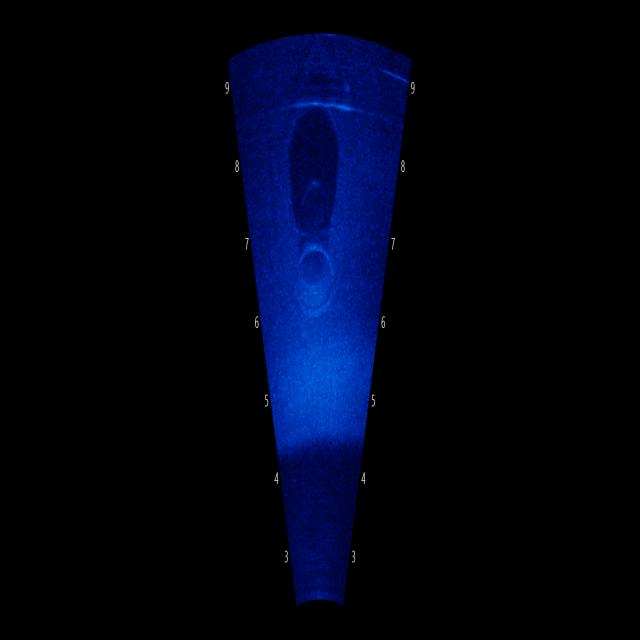circle: (284, 187, 346, 363)
triangle: (272, 34, 360, 131)
